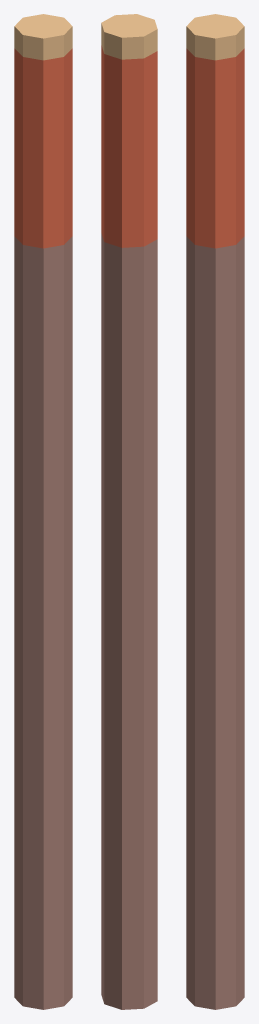
Rendered from incense_lit.fbx.
3 renders of one model, left to right at view 1: azimuth 90°, elevation 25°; view 2: azimuth 210°, elevation 25°; view 3: azimuth 270°, elevation 25°, orthographic.
Visible parts, largest first — view 1: insense_lit; view 2: insense_lit; view 3: insense_lit.
Boxes of the visible parts, x1=… form: insense_lit: x1=14, y1=14, x2=72, y2=1009; insense_lit: x1=101, y1=14, x2=157, y2=1009; insense_lit: x1=186, y1=14, x2=244, y2=1009.
Bounding box in the file's own units: 0.0713 × 1.31 × 0.0713.
